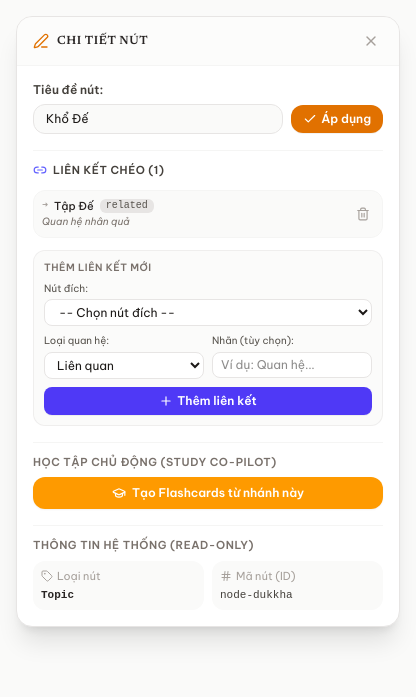
it: Phase M5a — MindMapNodeDrawer Cross-Link Editing UI › Scenario 5: Rejects cycle in M5a policy
Expected: the element with test id "mindmap-crosslinks-section" is shown, x1=33 y1=150 x2=383 y2=426
Select "Tứ Diệu Đế (node-root)" in the dropdown with test id "crosslink-target-select". click: (208, 313)
box: x1=44 y1=299 x2=372 y2=326
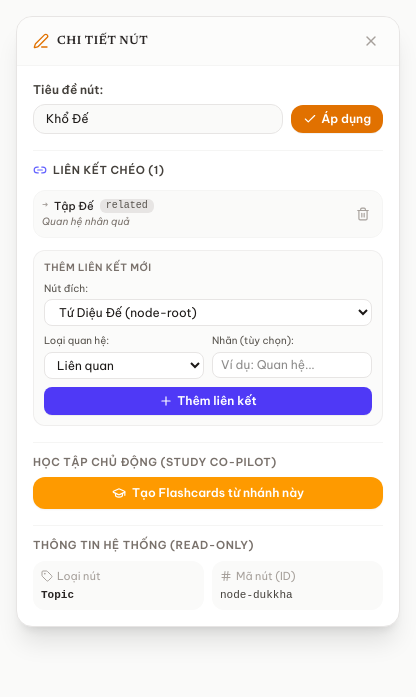
Click the button with test id "crosslink-add-btn". click: (208, 401)
box: x1=44 y1=387 x2=372 y2=415
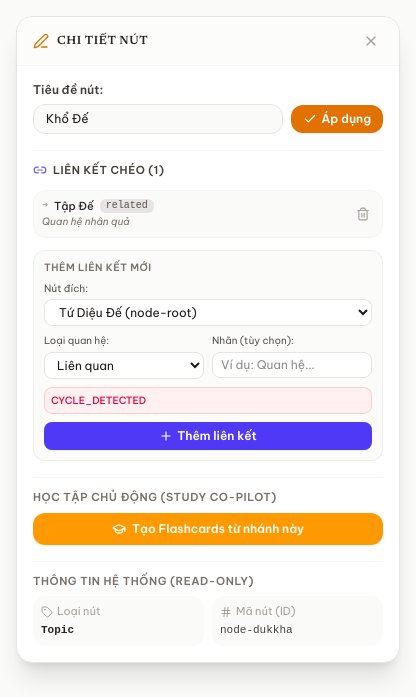
Result: the text "CYCLE_DETECTED" is shown at x1=44 y1=387 x2=372 y2=414
